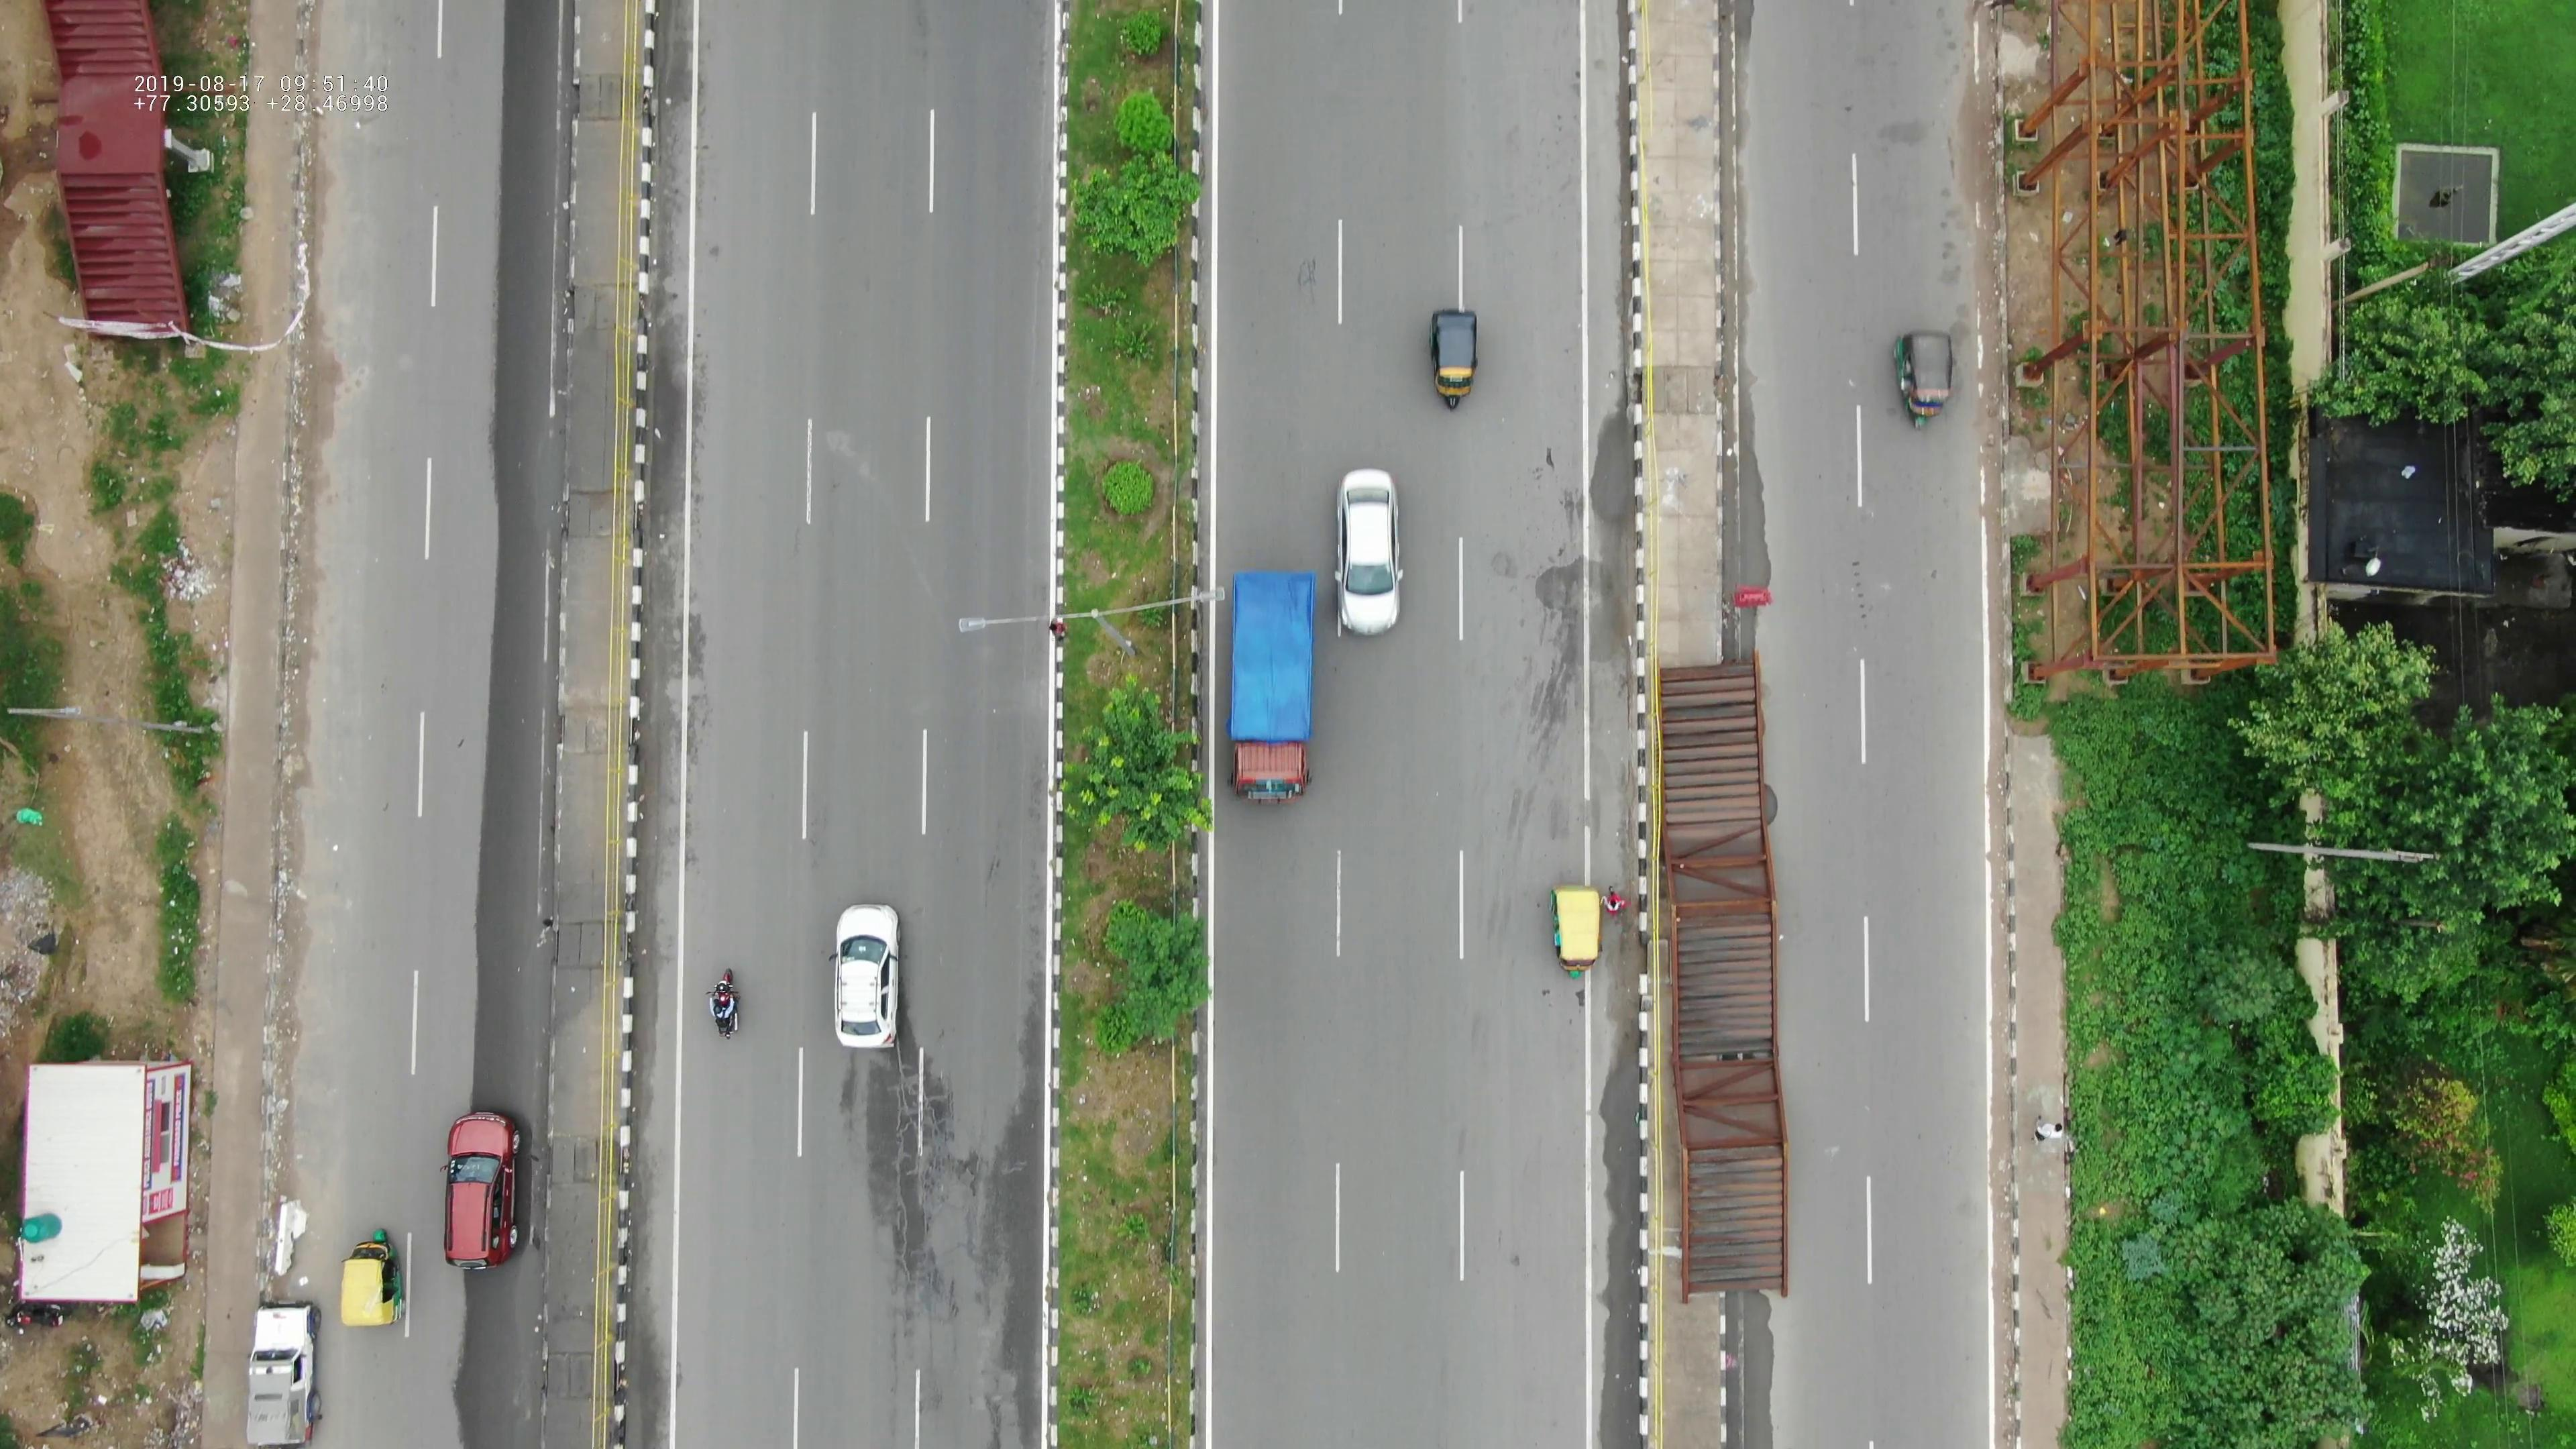Alligator_cracks: (849, 1065, 1005, 1325)
Hair_cracks: (1286, 230, 1330, 313)
Road_side_garbage: (140, 536, 219, 616)
